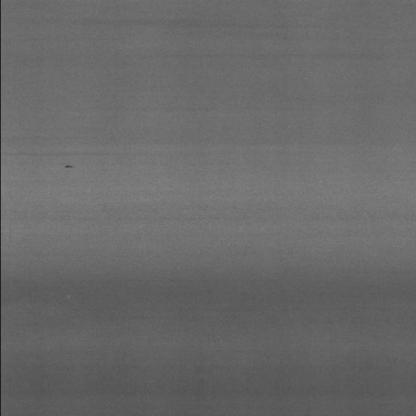inclusion: (59, 160, 79, 170)
